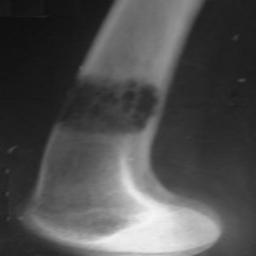cancer: (58, 78, 158, 137)
